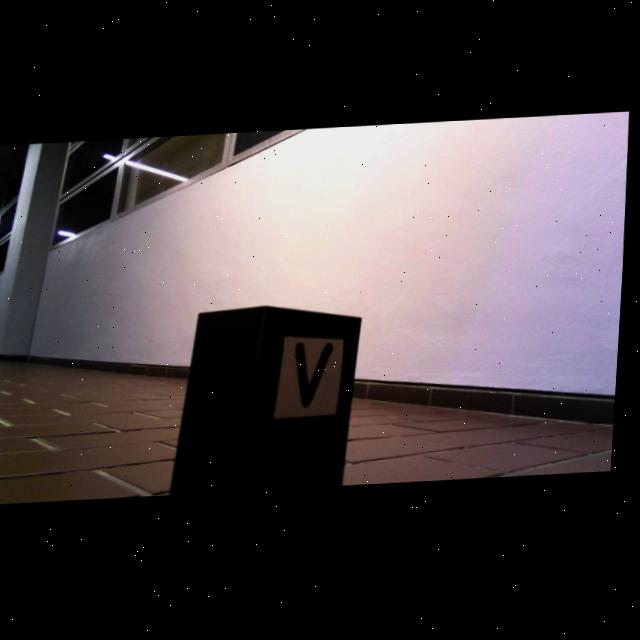V: (300, 345, 337, 408)
